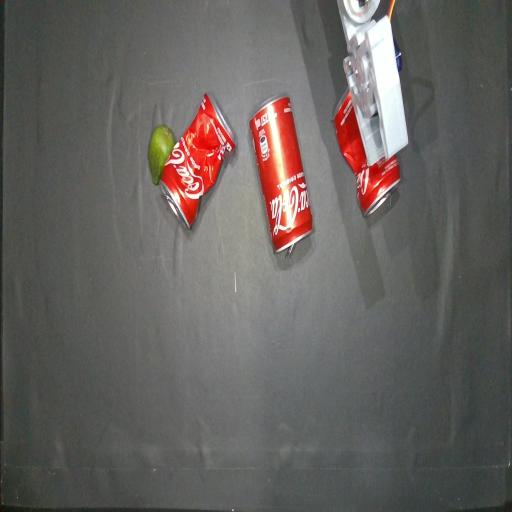higo: (148, 125, 175, 185)
lata: (249, 95, 313, 253)
lata_defectuoso: (160, 93, 235, 228), (332, 89, 400, 216)
